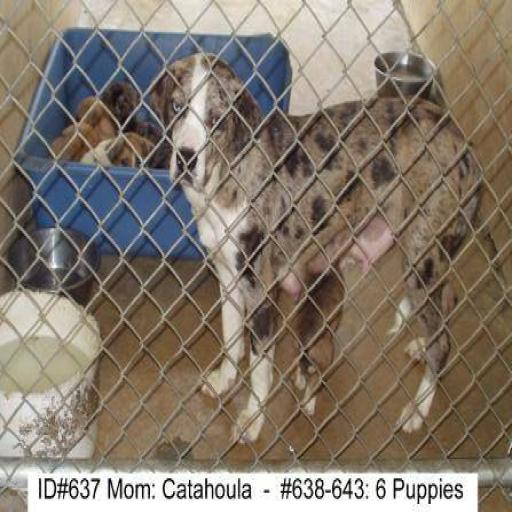Dog: (137, 35, 512, 445), (33, 37, 166, 197)
